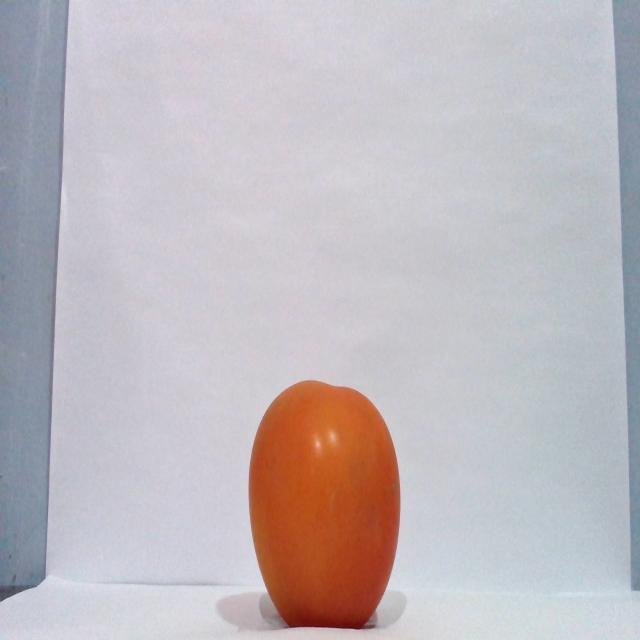Red: (246, 378, 401, 628)
